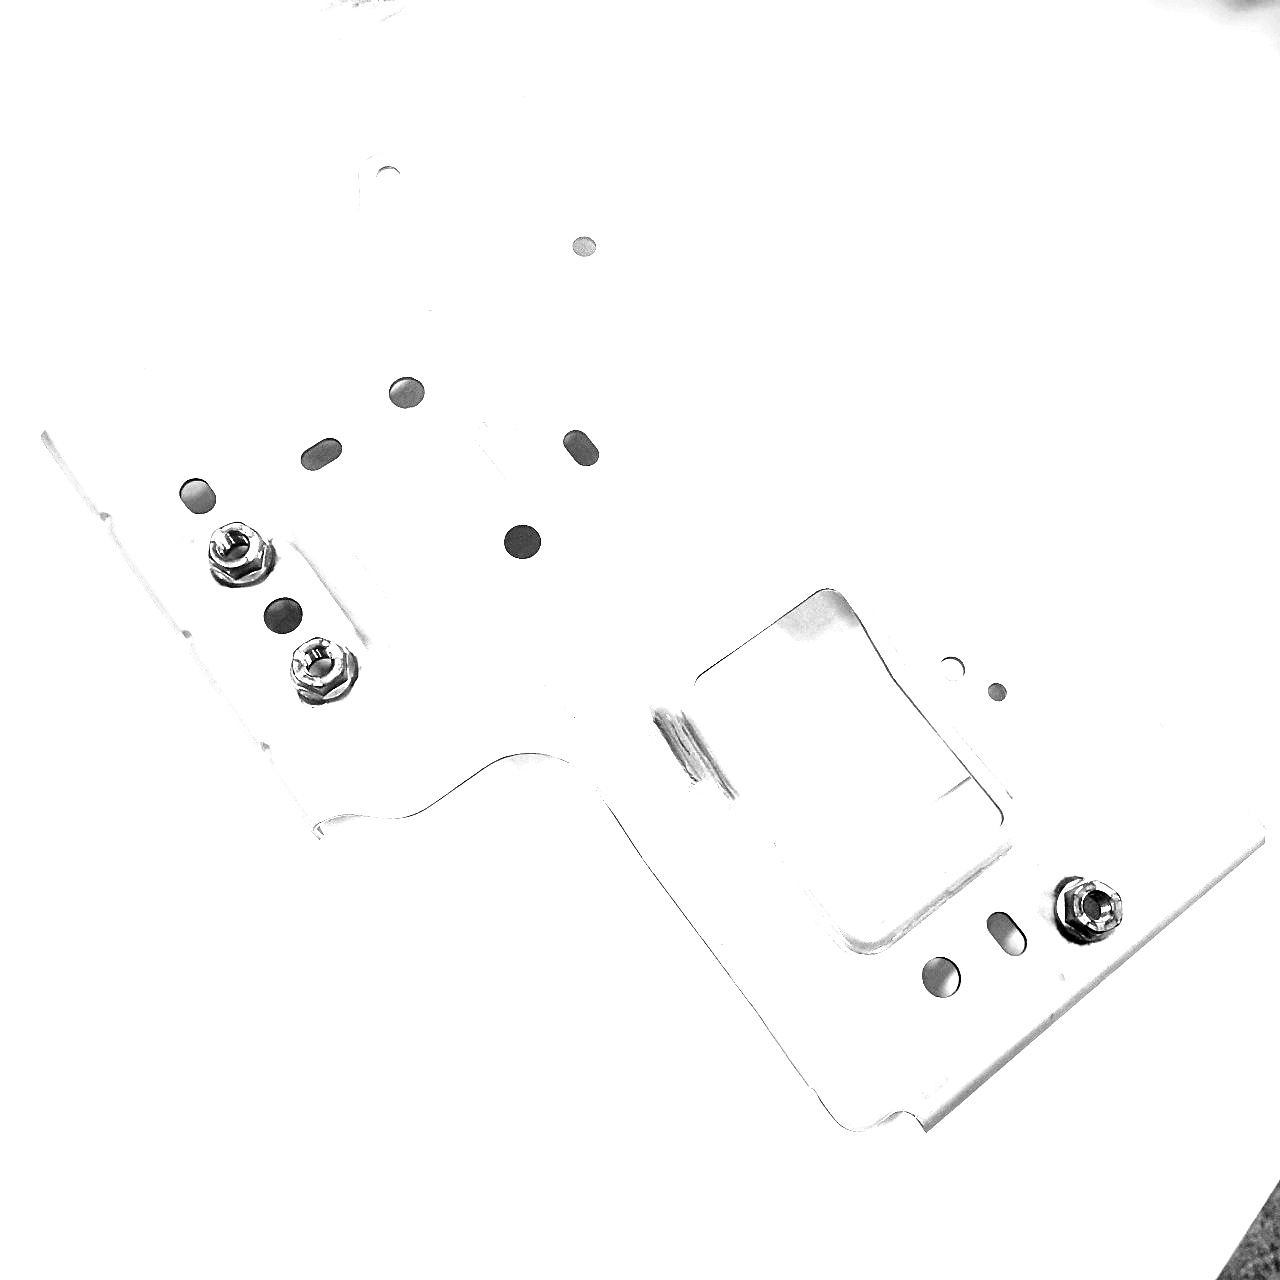dog: (1047, 870, 1126, 952), (285, 633, 362, 710), (204, 517, 277, 592)
